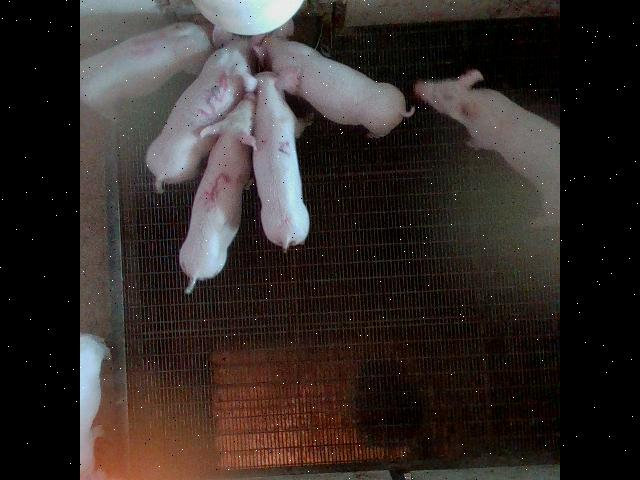pig-3: (147, 27, 256, 190)
pig-4: (81, 21, 212, 118)
pig-5: (180, 92, 256, 292)
